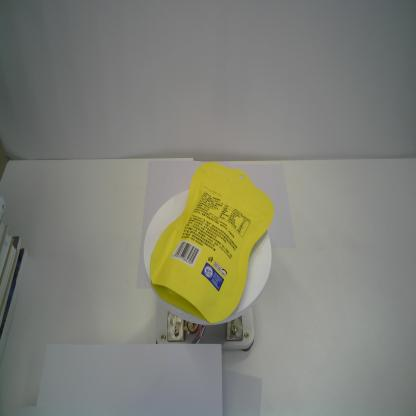Dried Fruit: (147, 159, 276, 325)
